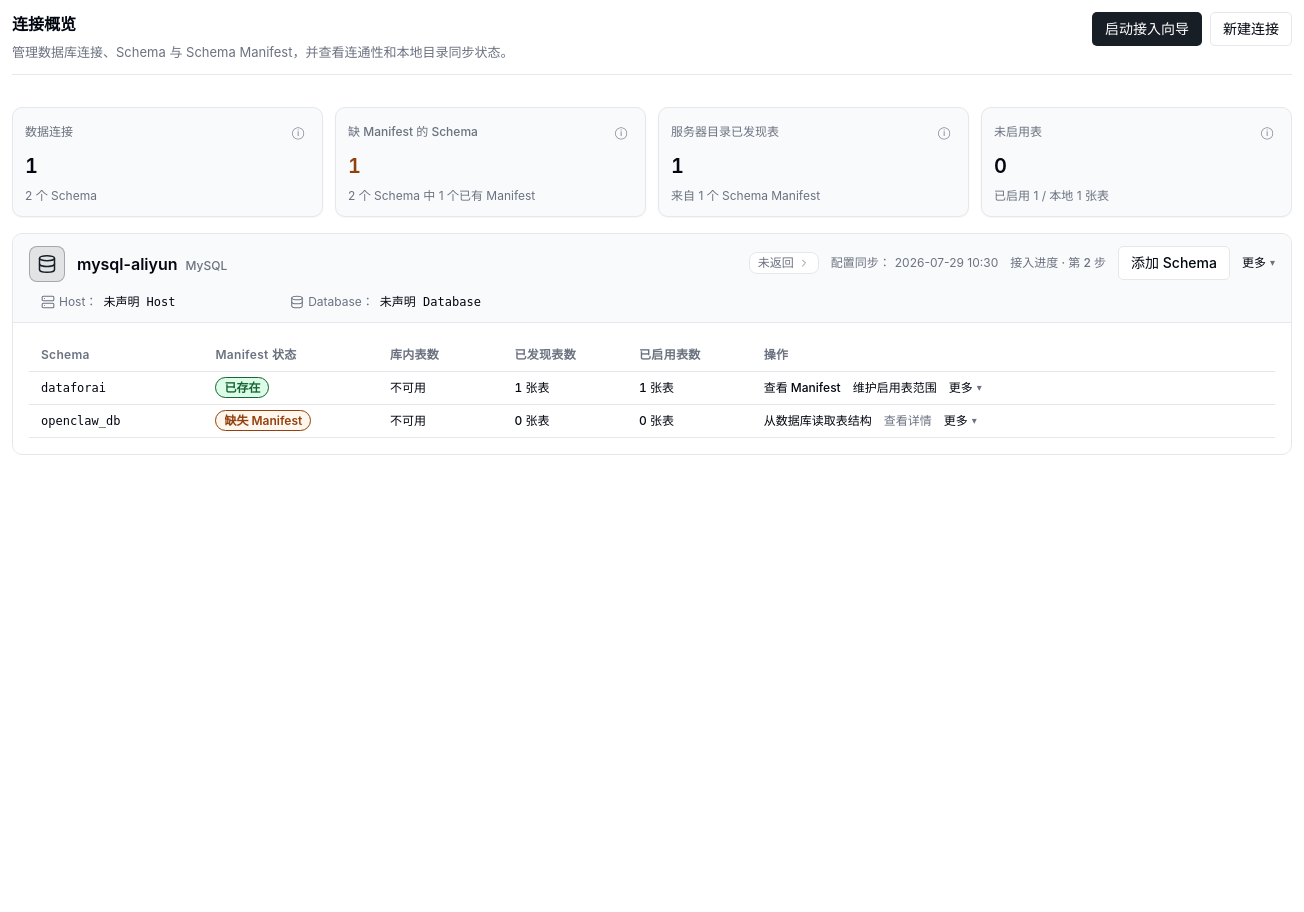
ConnectionOverview › shows per-schema manifest status and the correct next action
Check: the table with test id "schema-asset-table-mysql-aliyun" is shown, box 29,339 -> 1275,438
Check: the column heading "Schema" is shown, box 29,339 -> 203,372
Click the button with test id "catalog-reload-warning-toggle-mysql-aliyun-openclaw_db": (908, 421) 884,413 -> 932,429
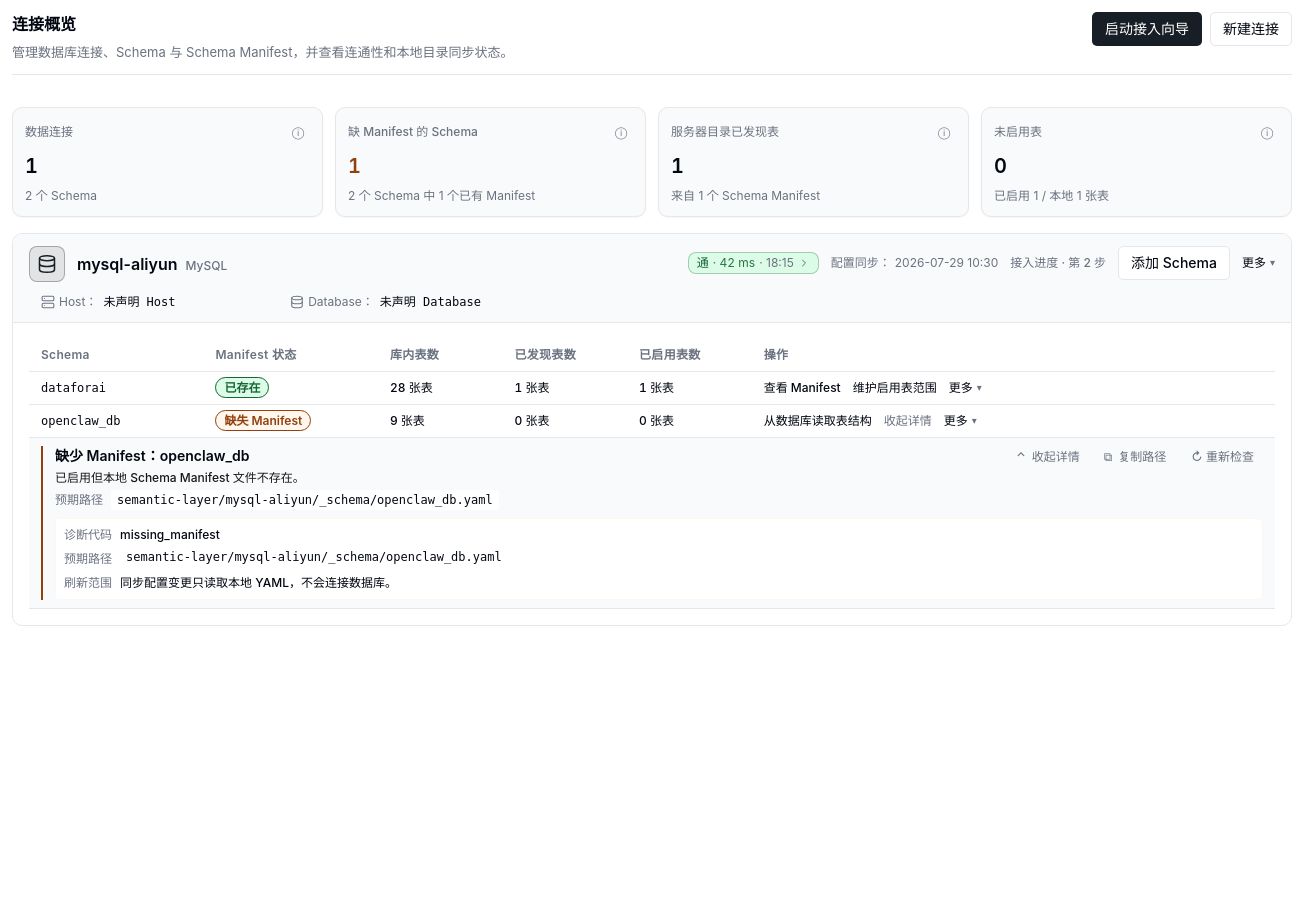
Check: the row with test id "catalog-reload-warning-mysql-aliyun-openclaw_db" shows "缺少 Manifest", box 55,447 -> 160,464
